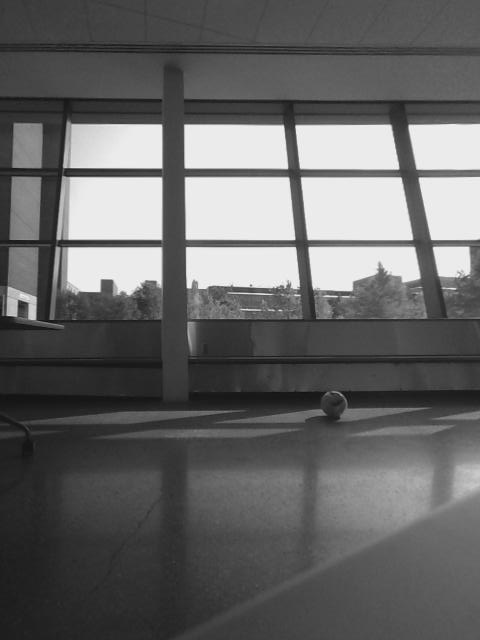ball: (320, 388, 351, 419)
